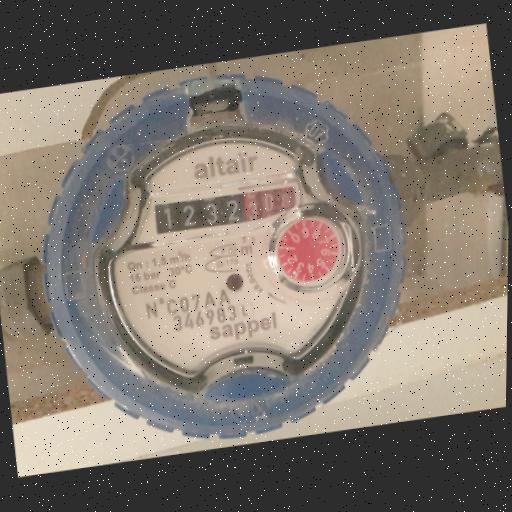0: (260, 189, 277, 219)
1: (159, 201, 178, 235)
2: (179, 199, 200, 231), (222, 193, 243, 225)
3: (200, 197, 222, 228), (243, 191, 260, 222)
8: (278, 187, 294, 213)
border_water_meter_number: (147, 175, 305, 243)
